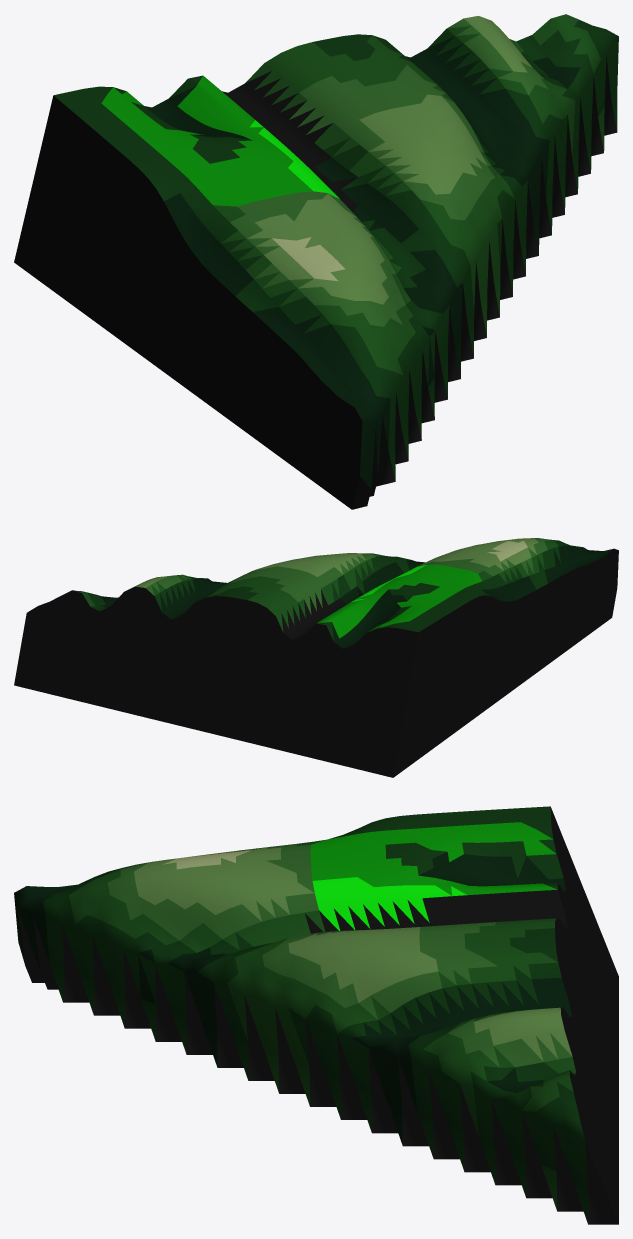
The model's file is green_shell_271.glb.
3 views of the same model, one above another, from view 1: azimuth 30°, elevation 25°; view 2: azimuth 150°, elevation 25°; view 3: azimuth 270°, elevation 25° (orthographic). The views are drawn at different scales.
Visible parts, largest first — view 1: green_shell_271; view 2: green_shell_271; view 3: green_shell_271.
Boxes of the visible parts, x1,y1,x2,y2 form: green_shell_271: [14, 14, 618, 509]; green_shell_271: [14, 538, 618, 777]; green_shell_271: [14, 806, 618, 1224].
Bounding box in the file's own units: 19 × 6.08 × 19.59.
